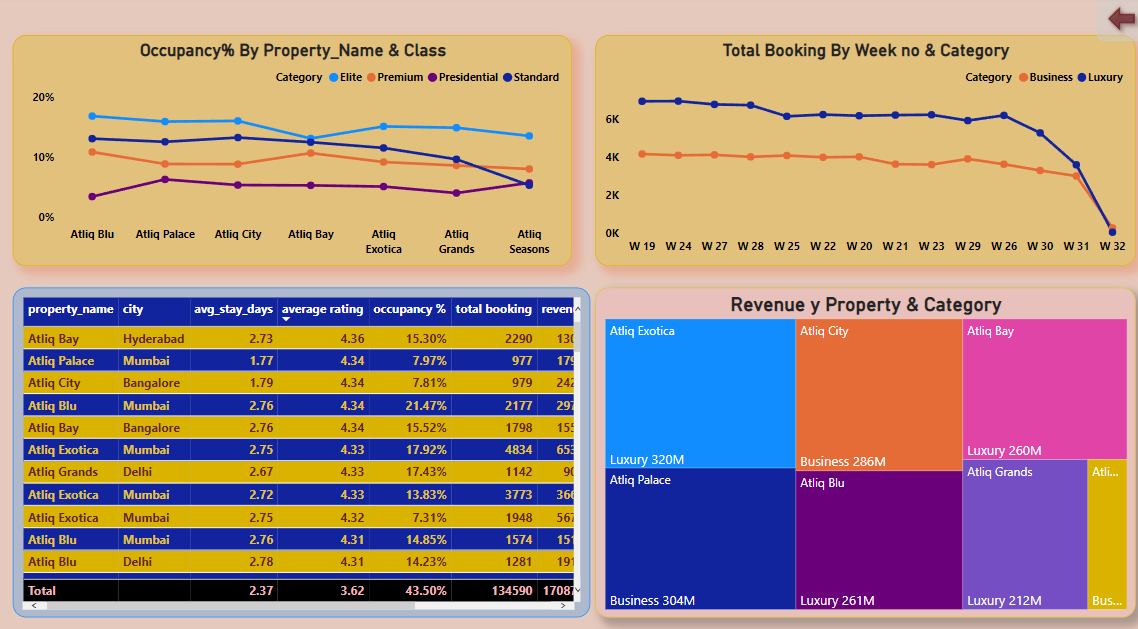

The dashboard page shown, as its layout file describes it:
{"tool":"powerbi","page":{"name":"Page 3","canvas":[1280,720],"ordinal":2},"visuals":[{"type":"tableEx","fields":{"Values":["dim_hotels.property_name","dim_hotels.city","Measure.avg_stay_days","Measure.average rating","Measure.occupancy %","Measure.total booking","Measure.revenue","Measure.total capacity","dim_rooms.room_class"]},"box":[15.4,327,645.6,368.9],"z":13},{"type":"treemap","title":"Revenue y Property & Category","fields":{"Group":["dim_hotels.property_name"],"Details":["dim_hotels.category"],"Values":["Measure.revenue"]},"box":[666.6,327,603.7,368.9],"z":14},{"type":"lineChart","title":"Total Booking By Week no & Category","fields":{"Category":["dim_date.week no"],"Y":["Measure.total booking"],"Series":["dim_hotels.category"]},"box":[666.6,44.7,603.7,258.5],"z":15},{"type":"lineChart","title":"Occupancy% By Property_Name & Class","fields":{"Y":["Measure.occupancy %"],"Category":["dim_hotels.property_name"],"Series":["dim_rooms.room_class"]},"box":[15.4,44.7,624.6,258.5],"z":16},{"type":"shape","box":[1226.3,0,53.7,51],"z":17}]}

Visuals, with their boxes in screenshot pixels (x1, y1, x2, y2), scaled from the page's 1280x720 canvas onto the 1138x629 screenshot:
tableEx - dim_hotels.property_name x dim_hotels.city: 14/286/588/608
"Revenue y Property & Category" treemap: 593/286/1129/608
"Total Booking By Week no & Category" lineChart: 593/39/1129/265
"Occupancy% By Property_Name & Class" lineChart: 14/39/569/265
shape: 1090/0/1137/45
